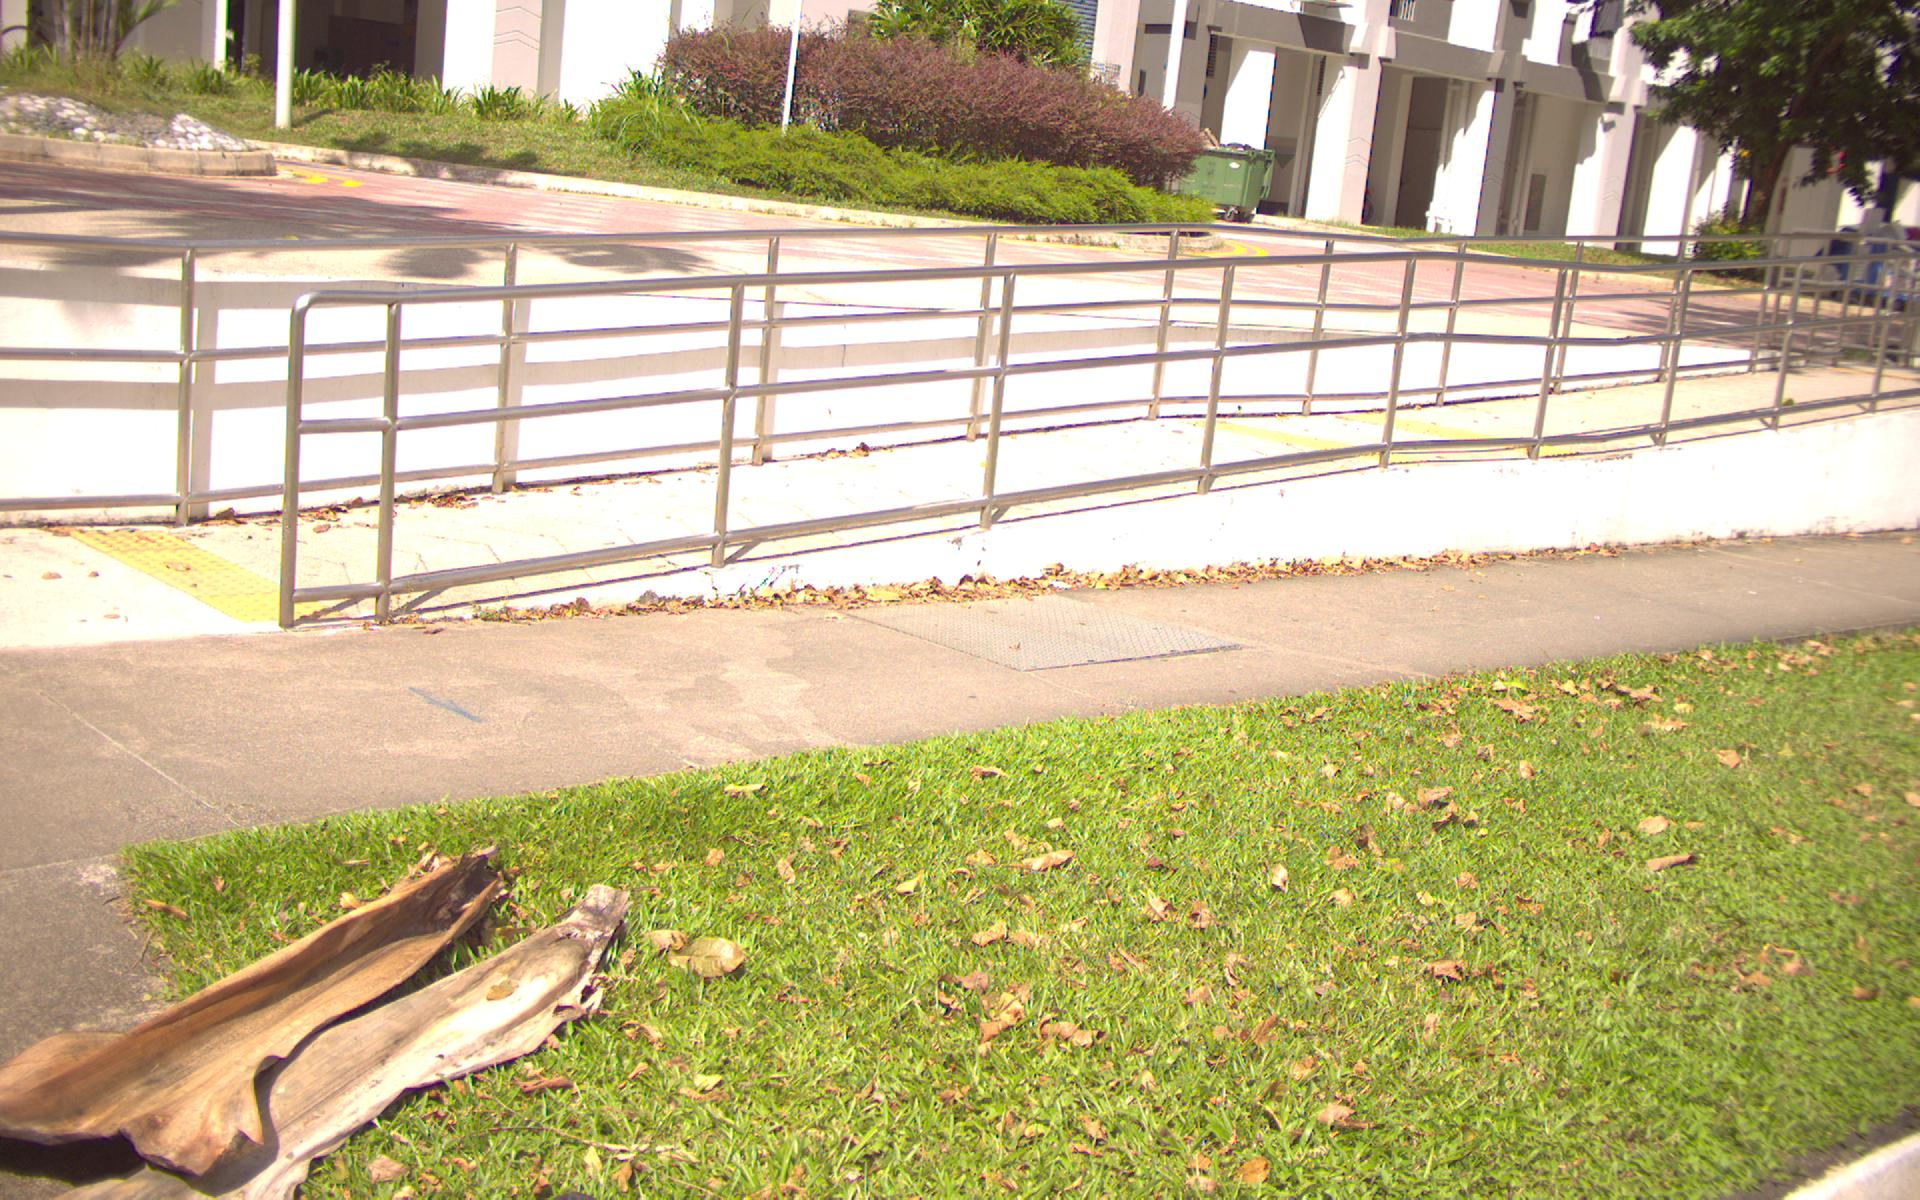pathway_low: (64, 647, 597, 795)
road_turf_low: (395, 821, 1920, 1200)
